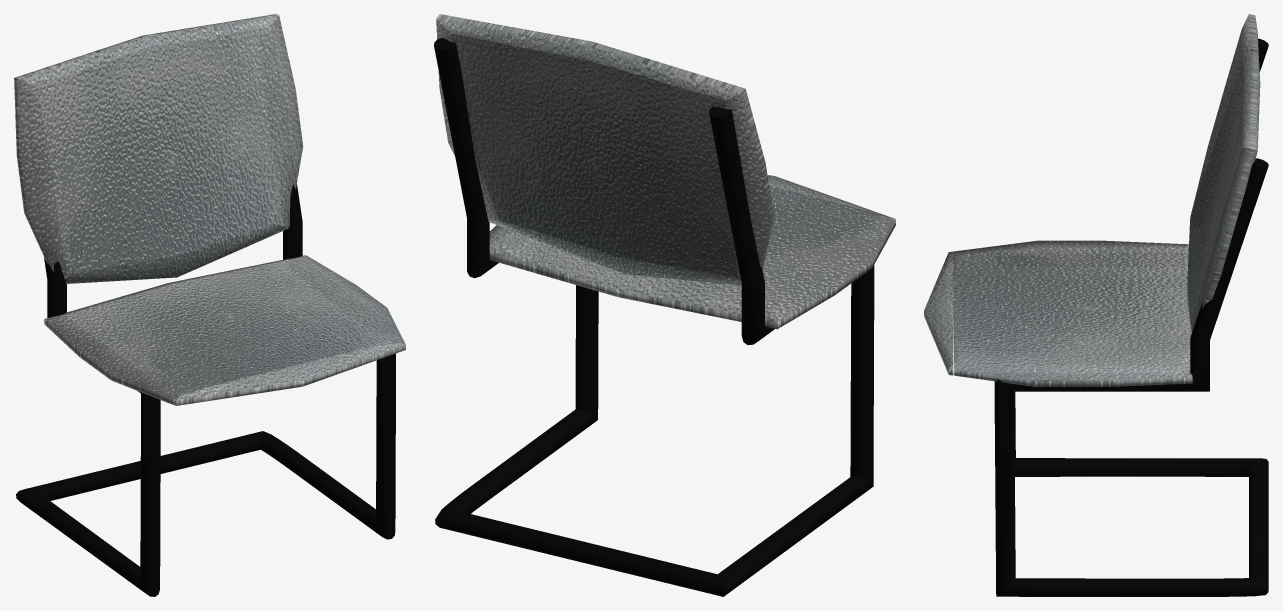
File: Bartender - Dining chair.FBX
The picture shows the model from 3 angles, left to right: view 1: azimuth 30°, elevation 25°; view 2: azimuth 150°, elevation 25°; view 3: azimuth 270°, elevation 25°; orthographic projection. The views are drawn at different scales.
Visible parts, largest first — view 1: w001, w, Beam; view 2: w001, Beam, w; view 3: w, Beam, w001.
Boxes of the visible parts, bbox=[...] form: w001: bbox=[14, 14, 303, 283]; w: bbox=[44, 255, 405, 405]; Beam: bbox=[16, 184, 395, 596]; w001: bbox=[436, 14, 773, 285]; Beam: bbox=[434, 37, 874, 596]; w: bbox=[489, 175, 895, 329]; w: bbox=[924, 240, 1192, 386]; Beam: bbox=[994, 38, 1268, 596]; w001: bbox=[1186, 14, 1260, 332].
Bounding box in the file's own units: 62.01 × 95.22 × 64.23.
Materials: 2 (1 with a texture image).
